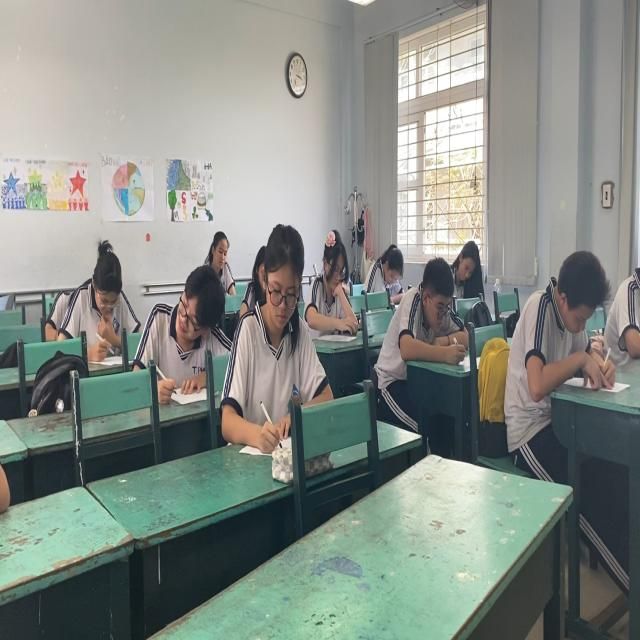cheating: (142, 264, 222, 381)
not_cheating: (502, 240, 614, 398), (244, 225, 324, 426), (65, 236, 136, 351), (397, 260, 457, 354), (312, 225, 354, 336), (201, 218, 240, 298), (364, 233, 403, 301), (448, 236, 484, 295)
